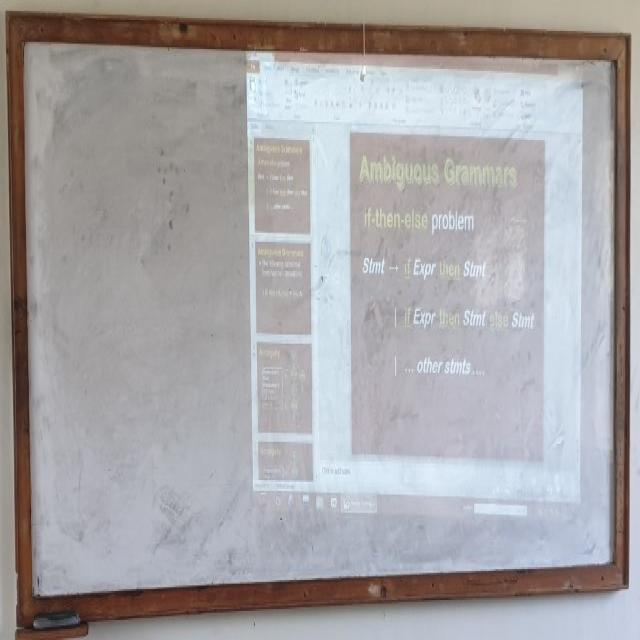Slide: (246, 31, 583, 536)
White-board: (15, 24, 626, 625)
